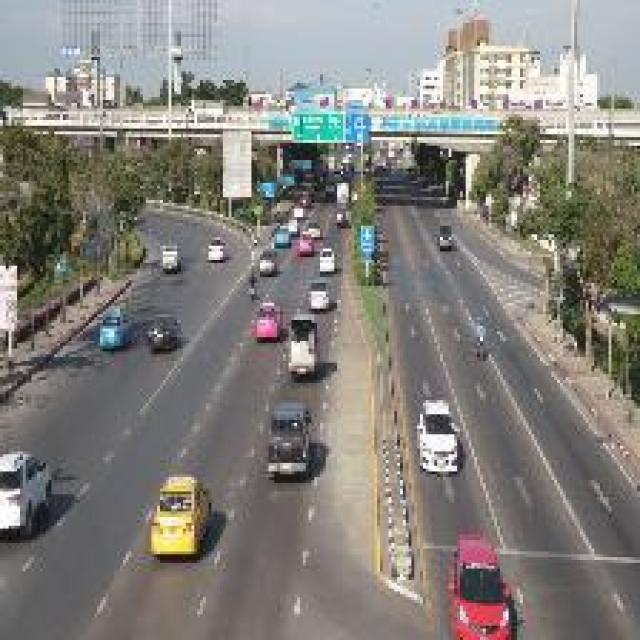other: (444, 522, 525, 632), (398, 394, 474, 467)
